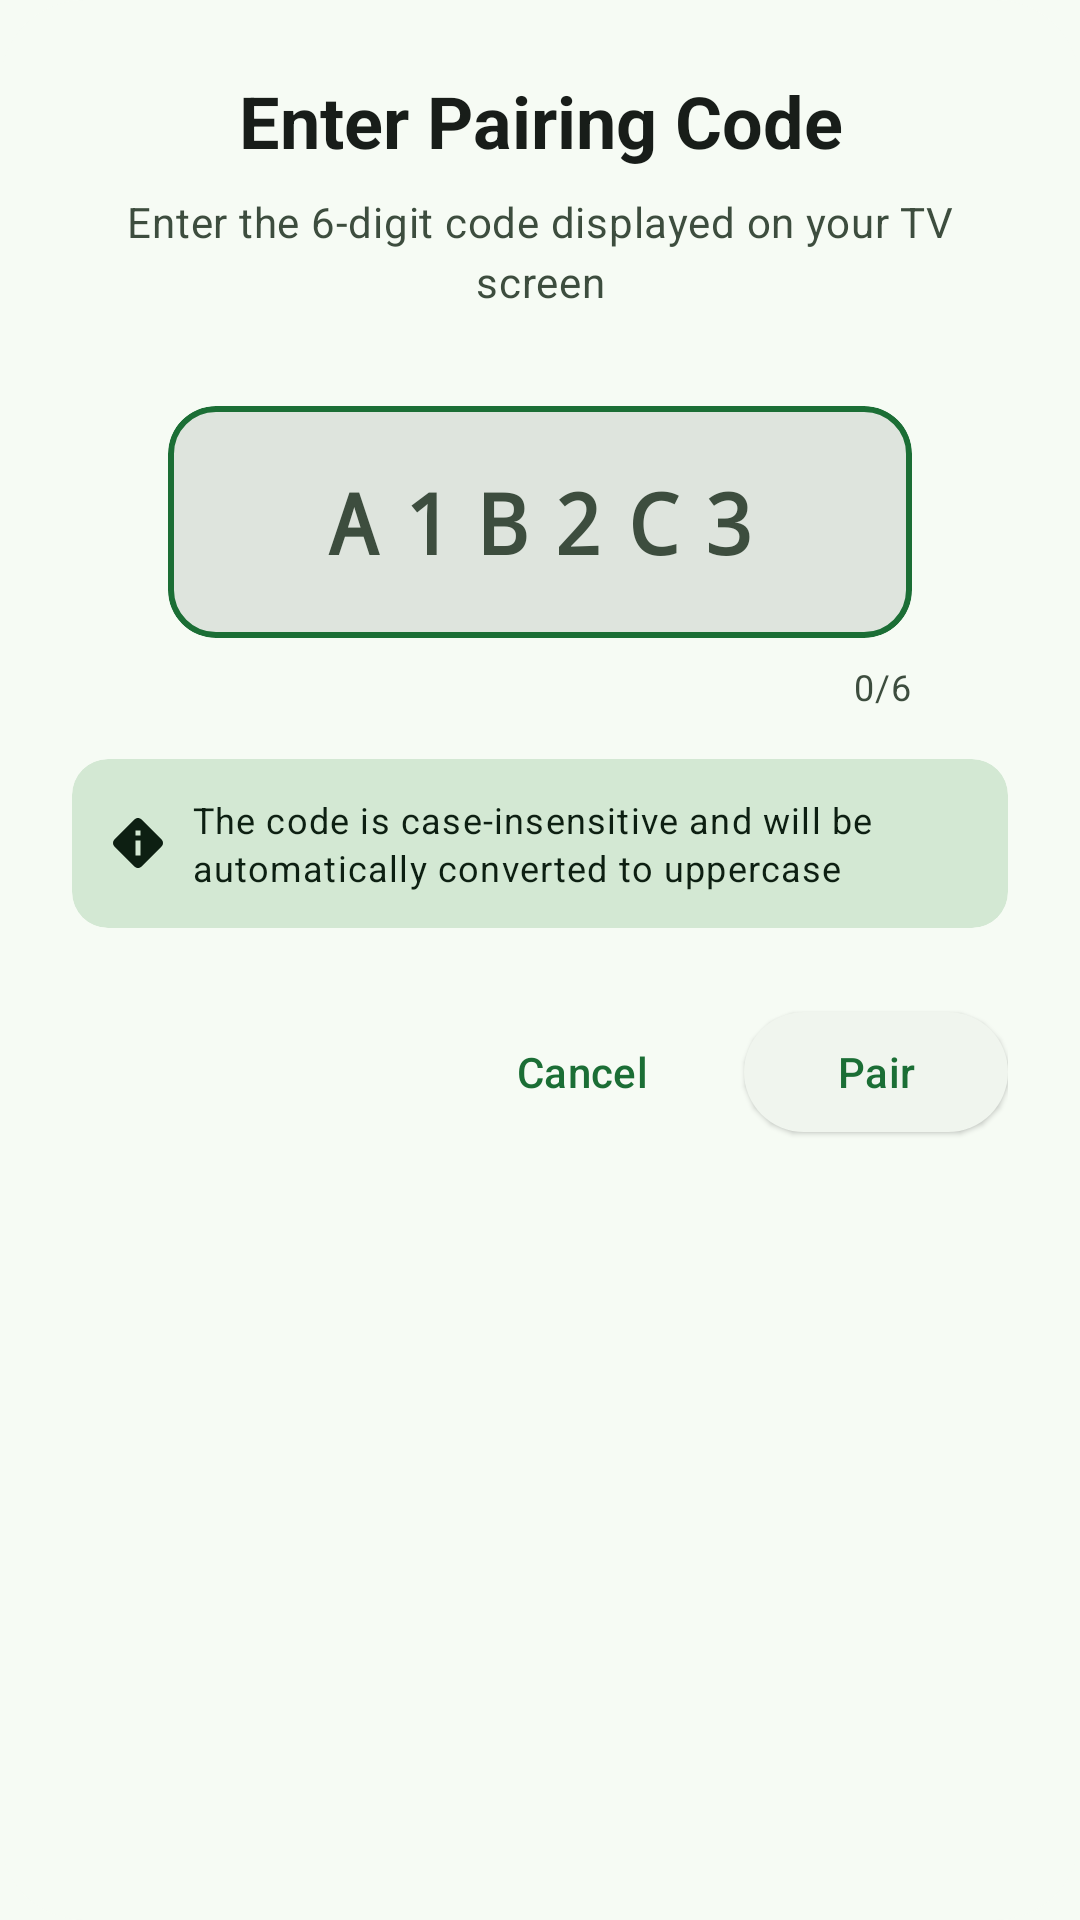

Icons on this 1080*1920 Android screen, each with the point to tap as point (x, y):
info: point (138, 843)
